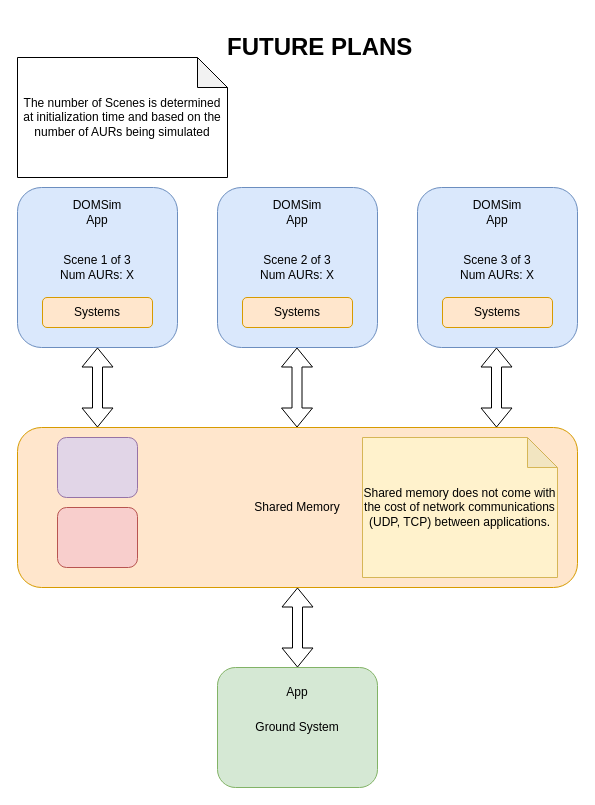
Some shapes in this 595 by 805 pixel diagram are drawn without their labels. The centre of each missing label's shape, as x and y in pixels:
"Component Data" belongs at [97,467].
"Threat Data" belongs at [97,537].
